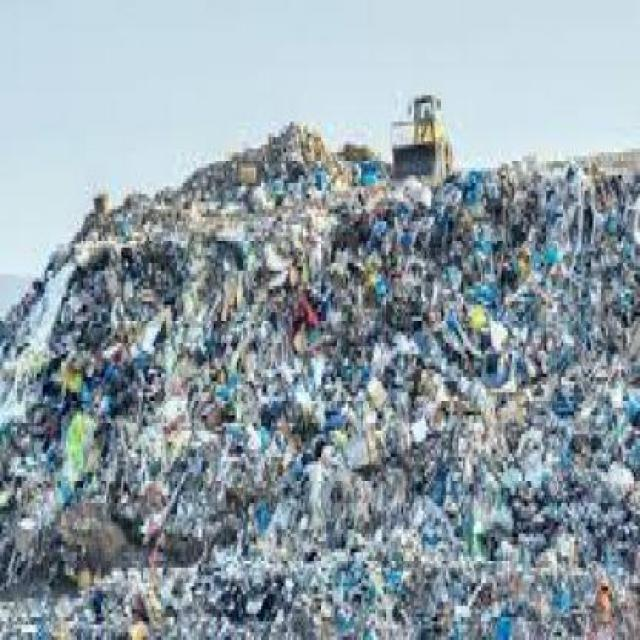garbage: (0, 114, 391, 632), (396, 176, 639, 637)
